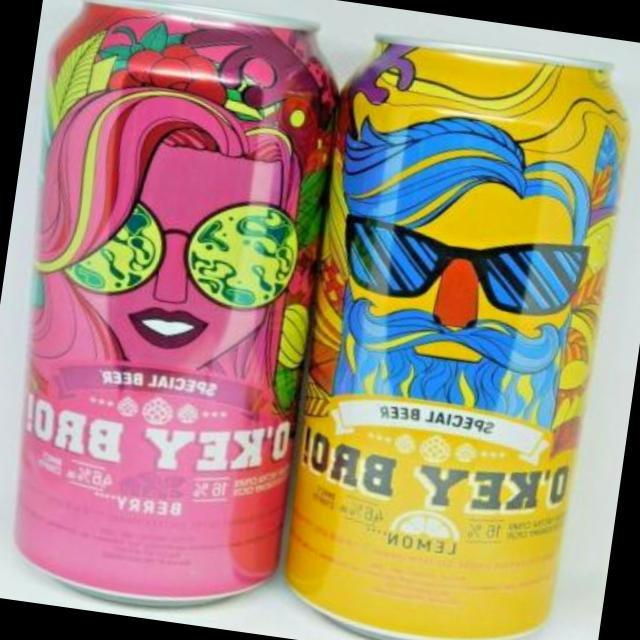metal: (289, 37, 628, 640), (17, 0, 338, 599)
